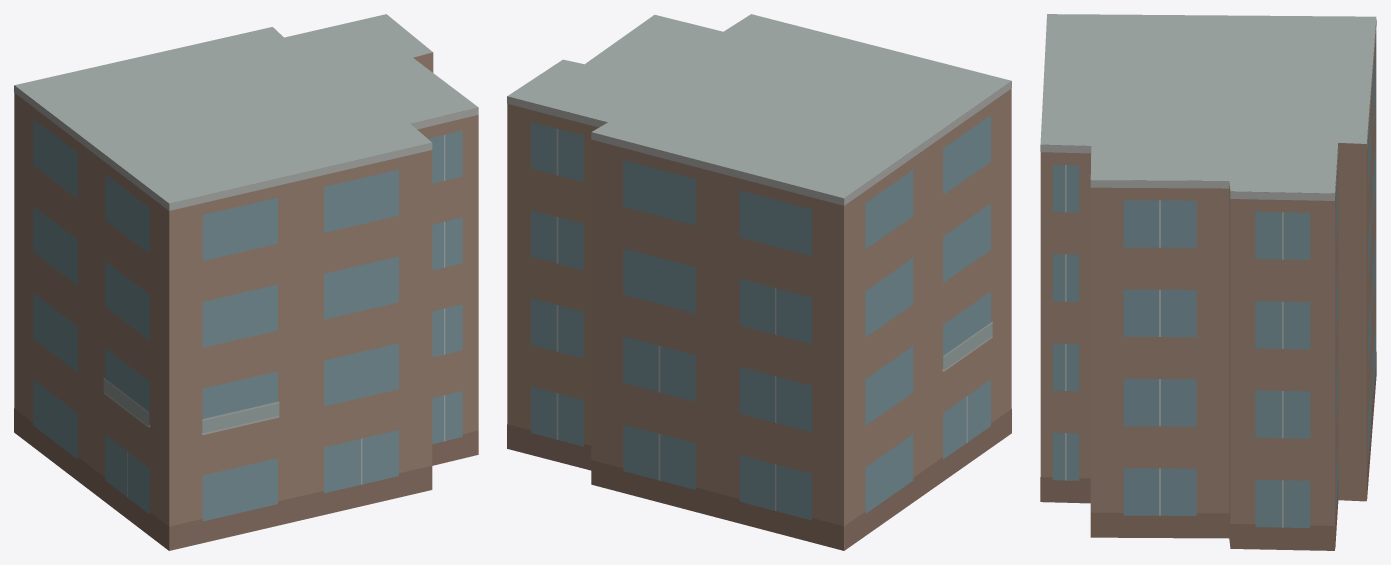
File: survey-upis-32954178.glb
3 renders of one model, left to right at view 1: azimuth 30°, elevation 25°; view 2: azimuth 150°, elevation 25°; view 3: azimuth 270°, elevation 25°, orthographic. The views are drawn at different scales.
Visible parts, largest first — view 1: survey-upis-32954178.tmp; view 2: survey-upis-32954178.tmp; view 3: survey-upis-32954178.tmp.
Boxes of the visible parts, <box> form: survey-upis-32954178.tmp: <box>14,14,478,550</box>; survey-upis-32954178.tmp: <box>507,14,1011,550</box>; survey-upis-32954178.tmp: <box>1040,14,1376,550</box>.
Size of the model in its own units: 12.4 by 11.5 by 9.81.
